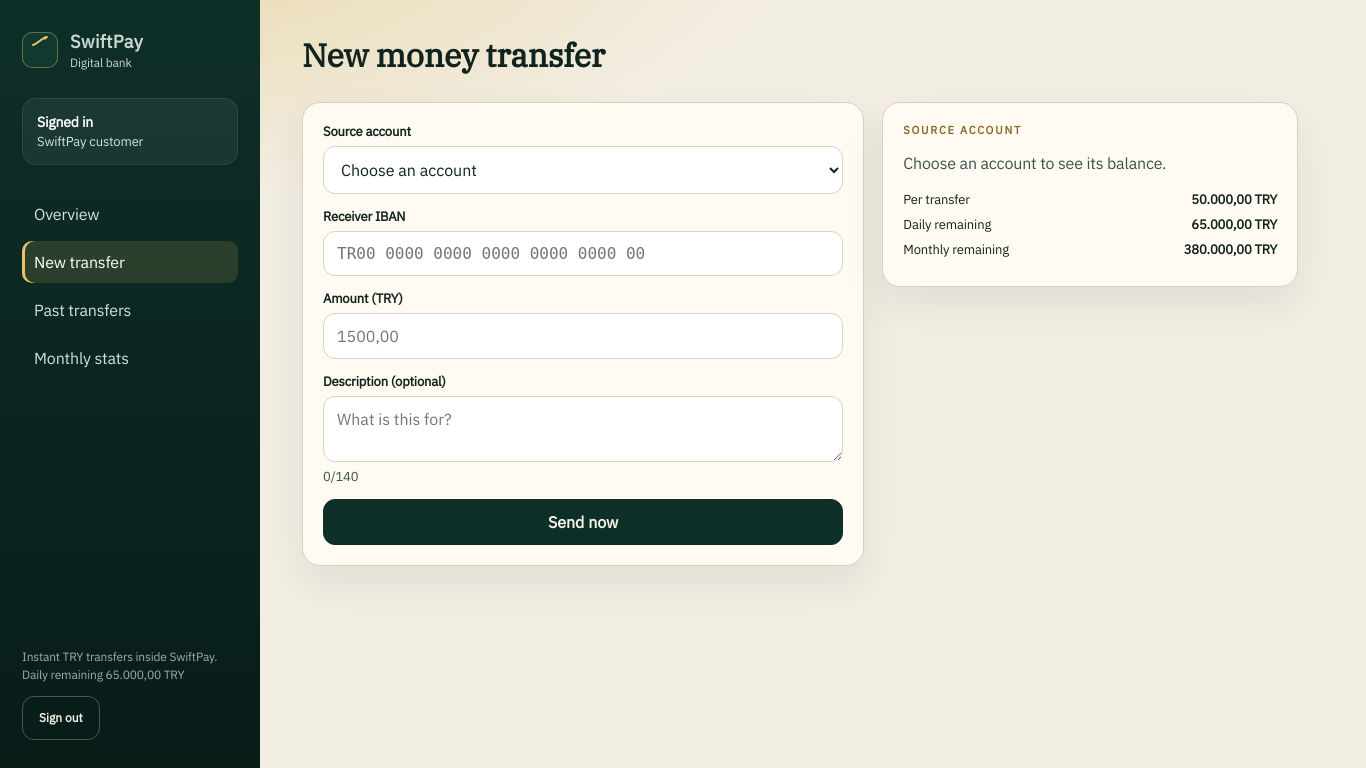
it: New transfer form › 422 INSUFFICIENT_BALANCE shows its message and the support code
Select "TR62 **** **** **** **** 1001 — 250.000,00 TRY" in the dropdown labelled "Source account": [583, 170] box [323, 146, 843, 194]
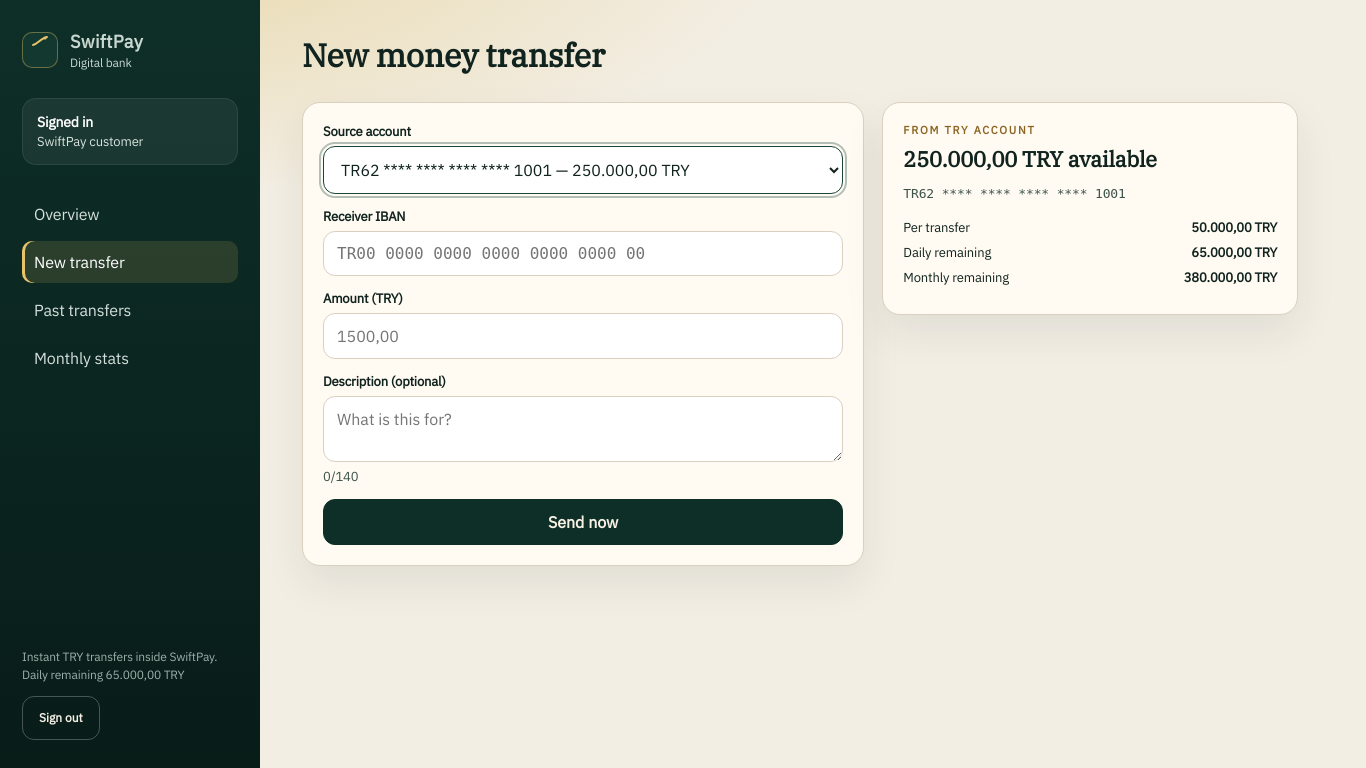
In the field labelled "Receiver IBAN": [583, 254] box [323, 231, 843, 276], type "TR690006200000000000002001"
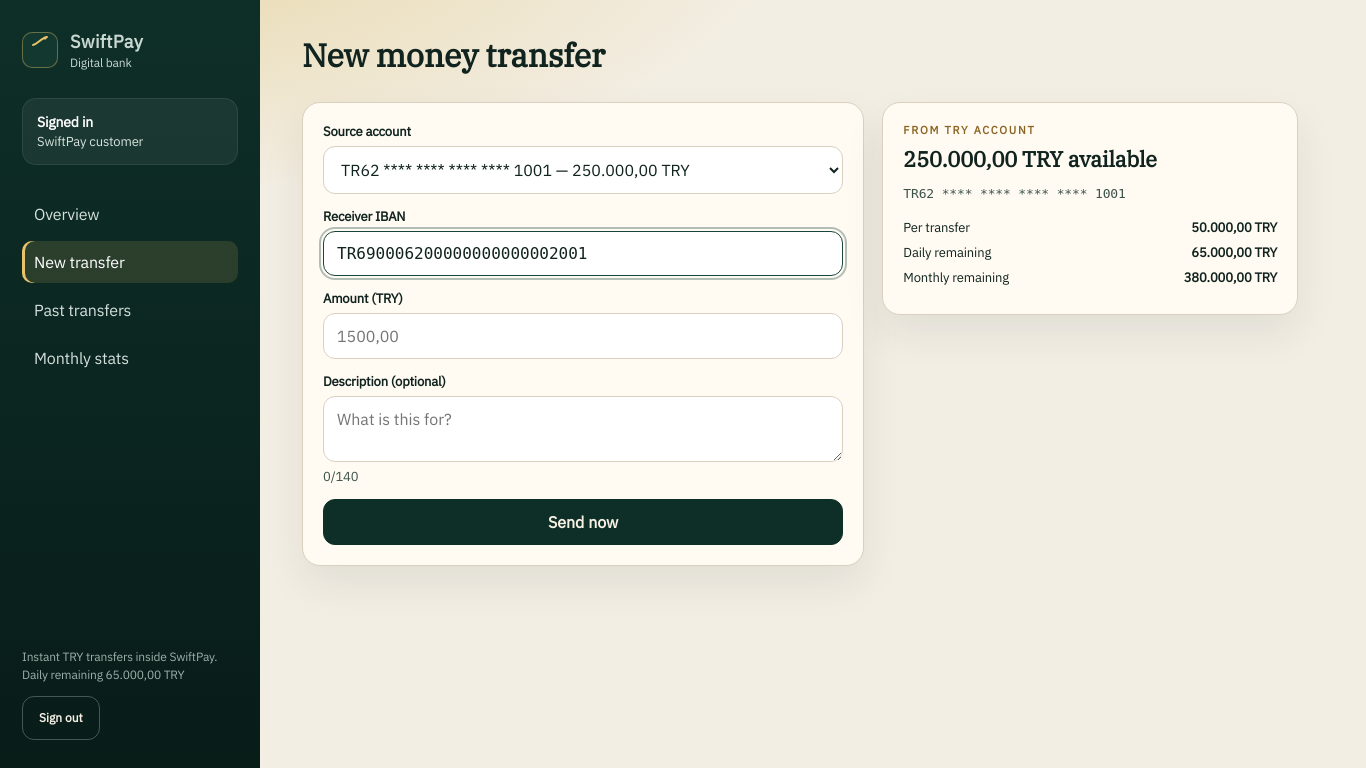
In the field labelled "Amount (TRY)": [583, 336] box [323, 313, 843, 359], type "1500"
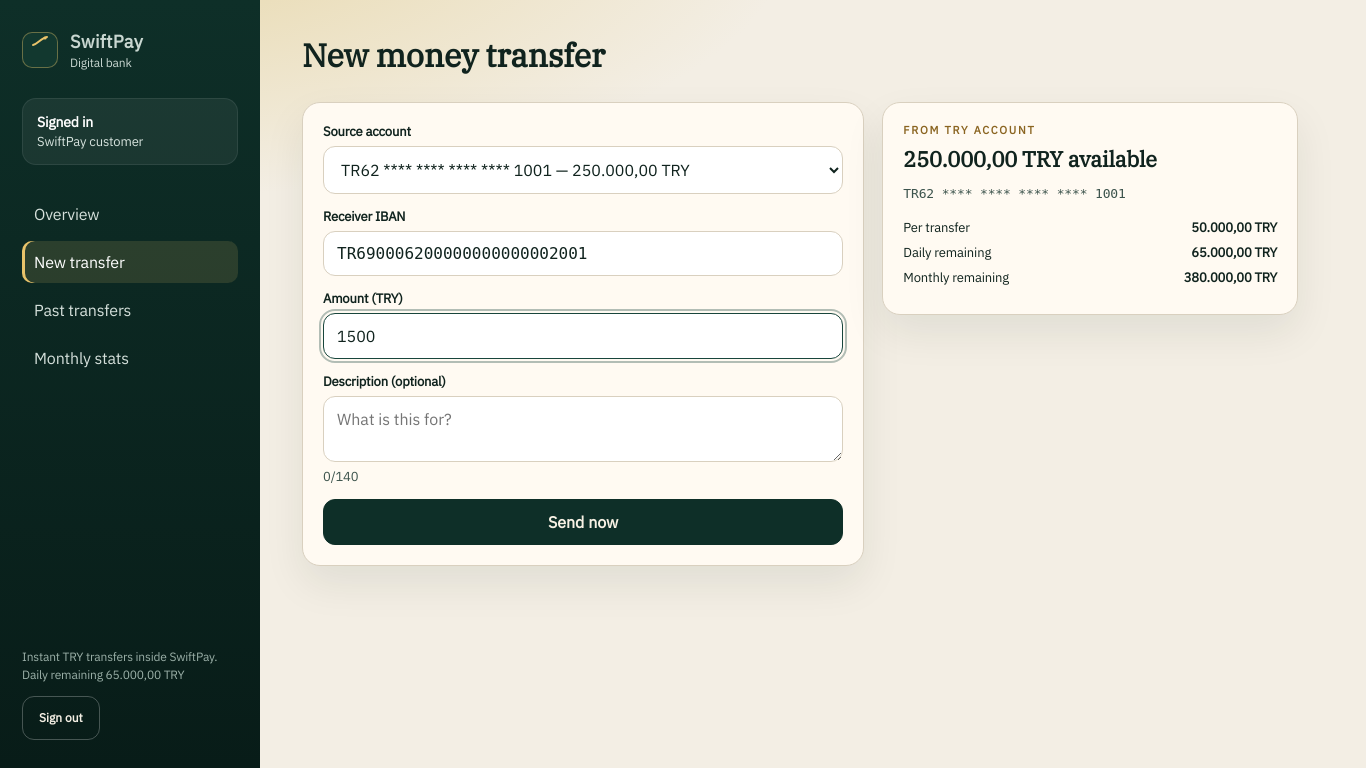
In the text box labelled "Description (optional)": [583, 429] box [323, 396, 843, 462], type "Kira"
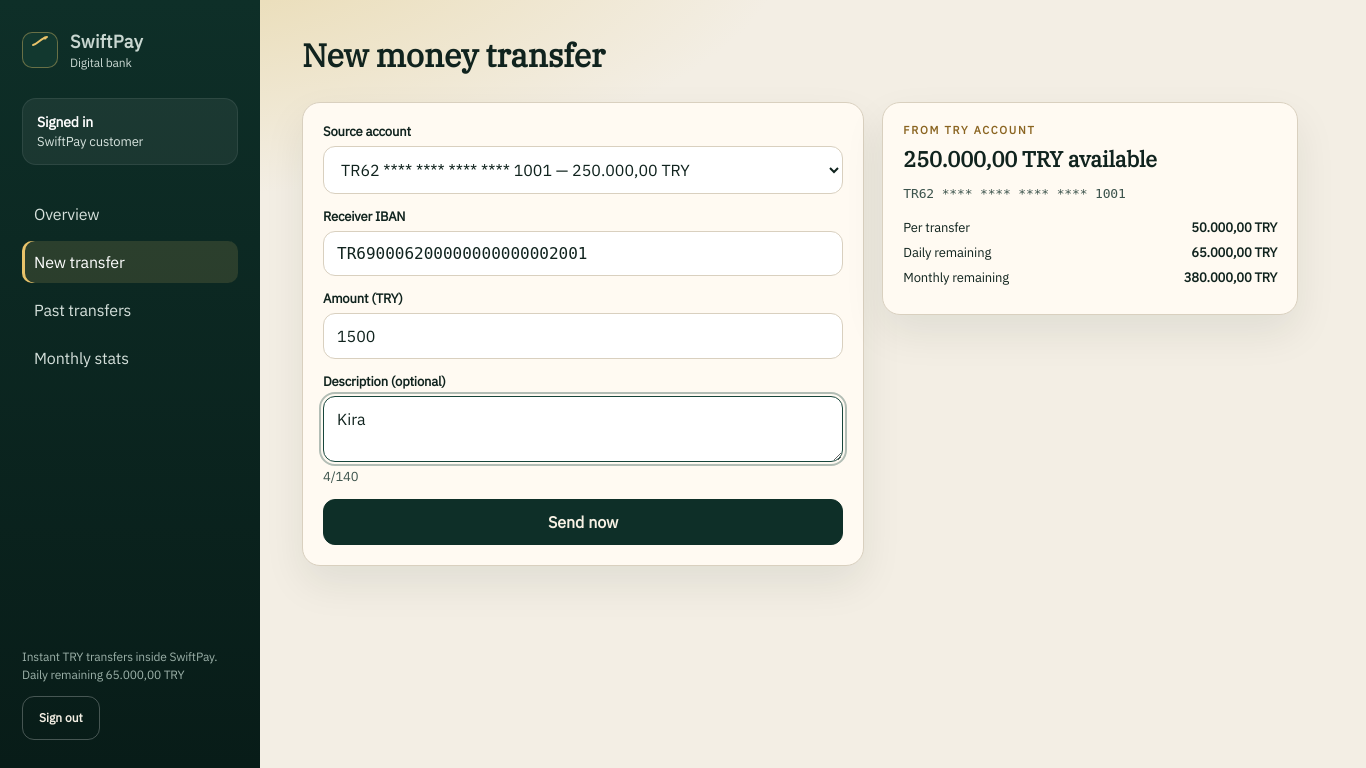
Click the button "Send now": [583, 522] box [323, 499, 843, 545]
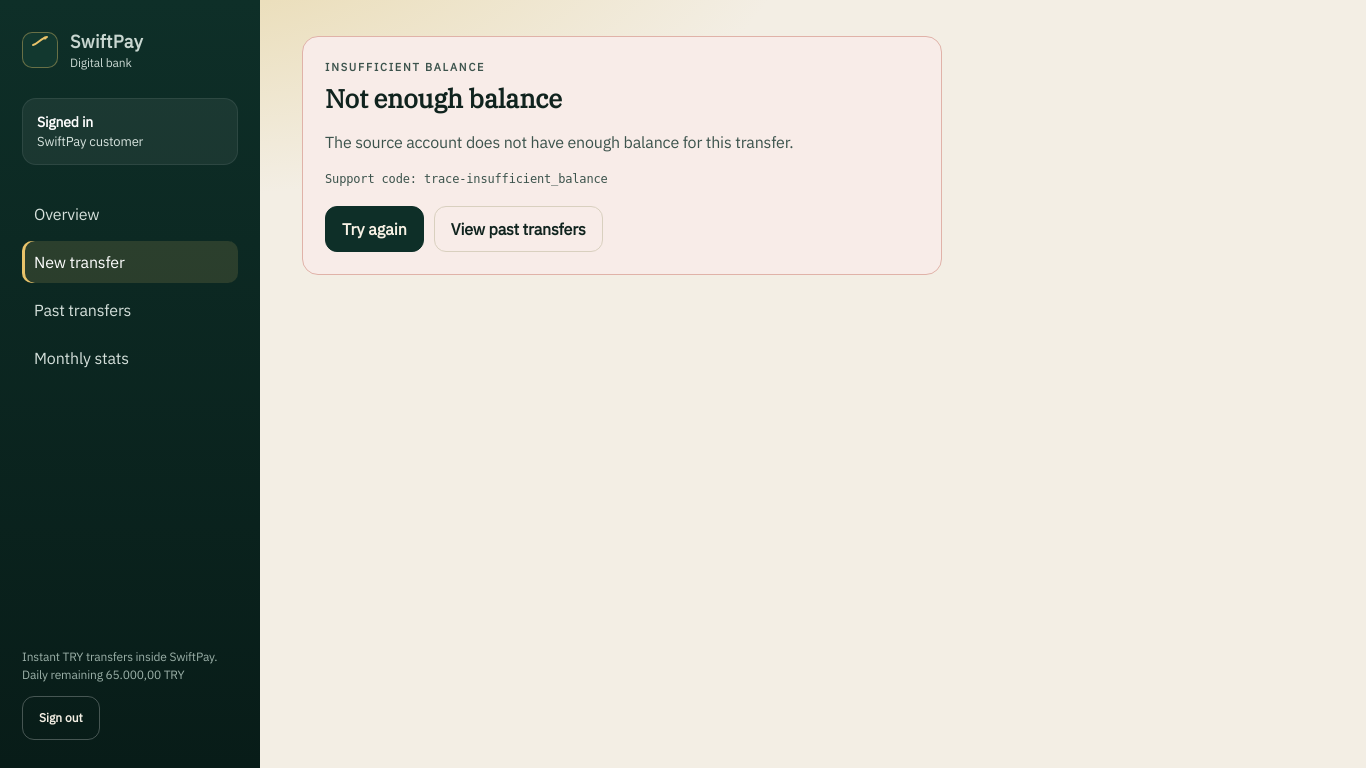
Now the text "does not have enough balance" is shown, box [325, 132, 793, 152]
